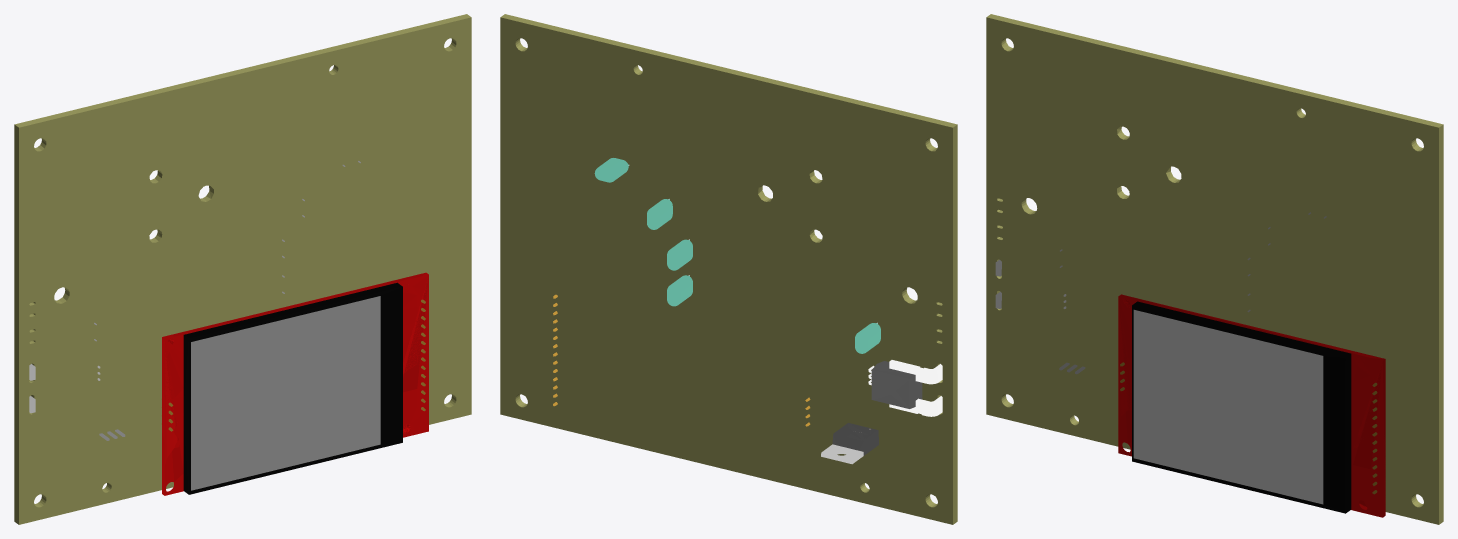
File: OBJ_PCB_BatteryTester_JoshuaChen.obj
3 renders of one model, left to right at view 1: azimuth 30°, elevation 25°; view 2: azimuth 150°, elevation 25°; view 3: azimuth 330°, elevation 25°, orthographic.
Bounding box in the file's own units: 574 × 481 × 95.86.
